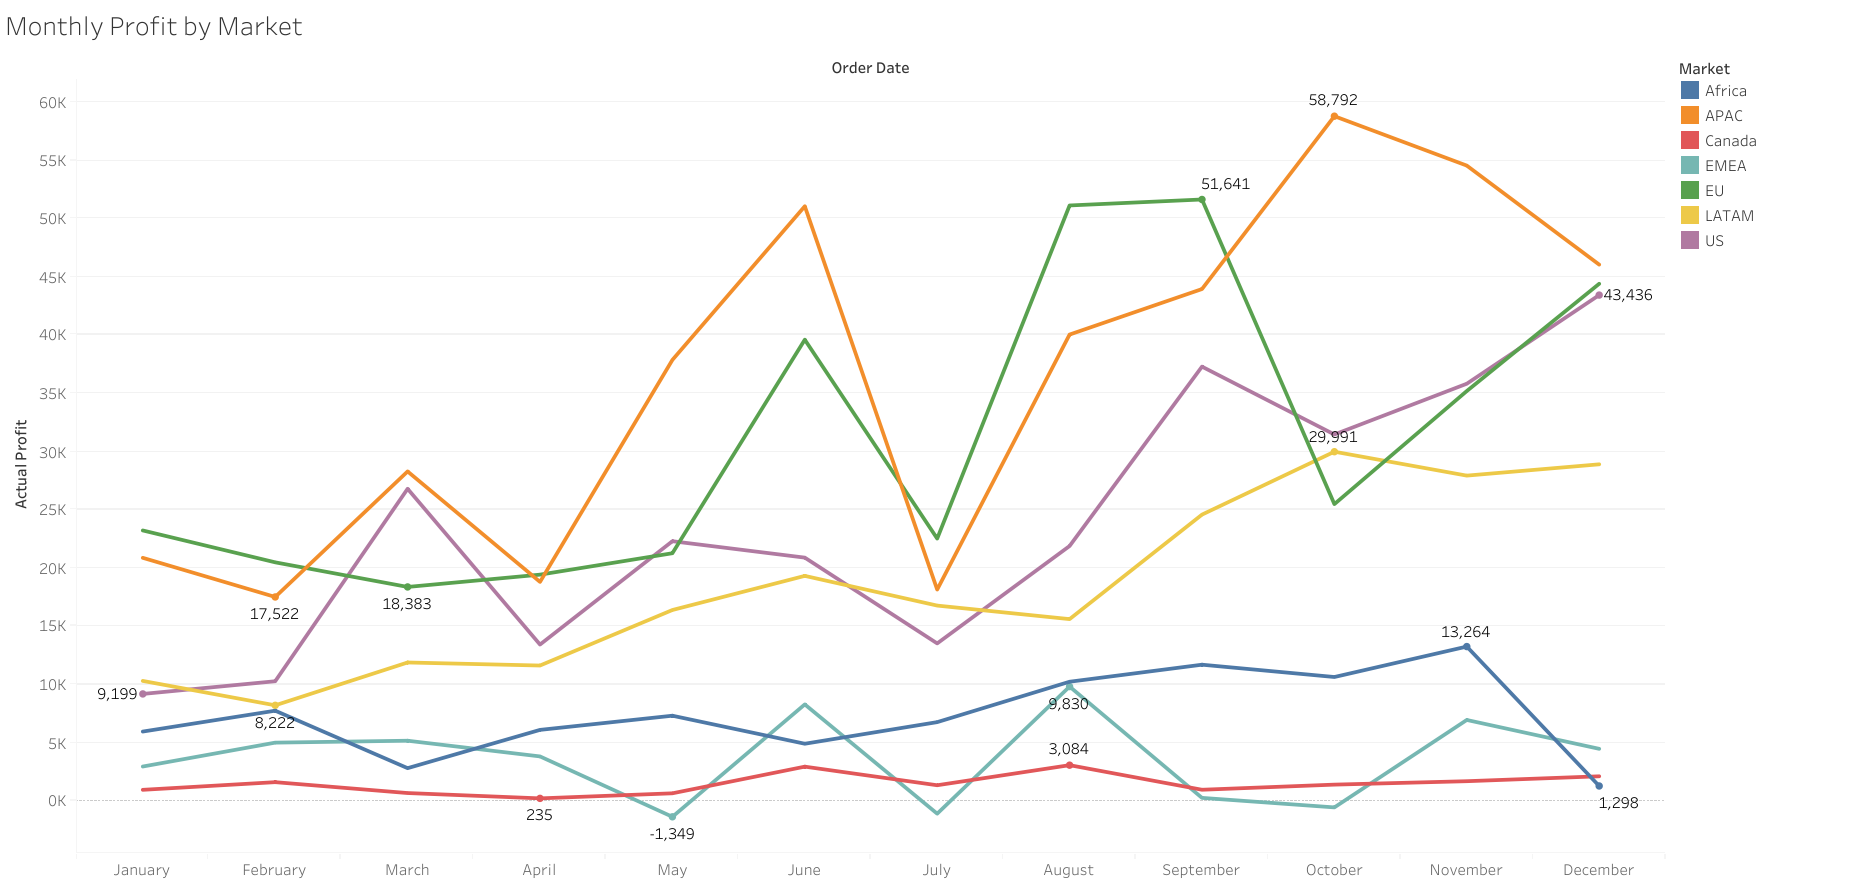

This screenshot's page, from the dashboard's own definition file:
{"tool":"tableau","page":{"name":"Dashboard 1","canvas":[1000,1000],"units":"permille","ordinal":0},"visuals":[{"type":"image","param":"Image/US Superstore.jpg","box":[4.8,8.2,990.3,983.5]}]}

Visuals, with their boxes on the dashboard's canvas, which has no fixed pixel size, in thousandths of its width and height (x1, y1, x2, y2). These are canvas units, not pixel positions in the 1853x880 screenshot, which may show the page scaled, cropped or inside an application window:
image: {"left": 5, "top": 8, "right": 995, "bottom": 992}
